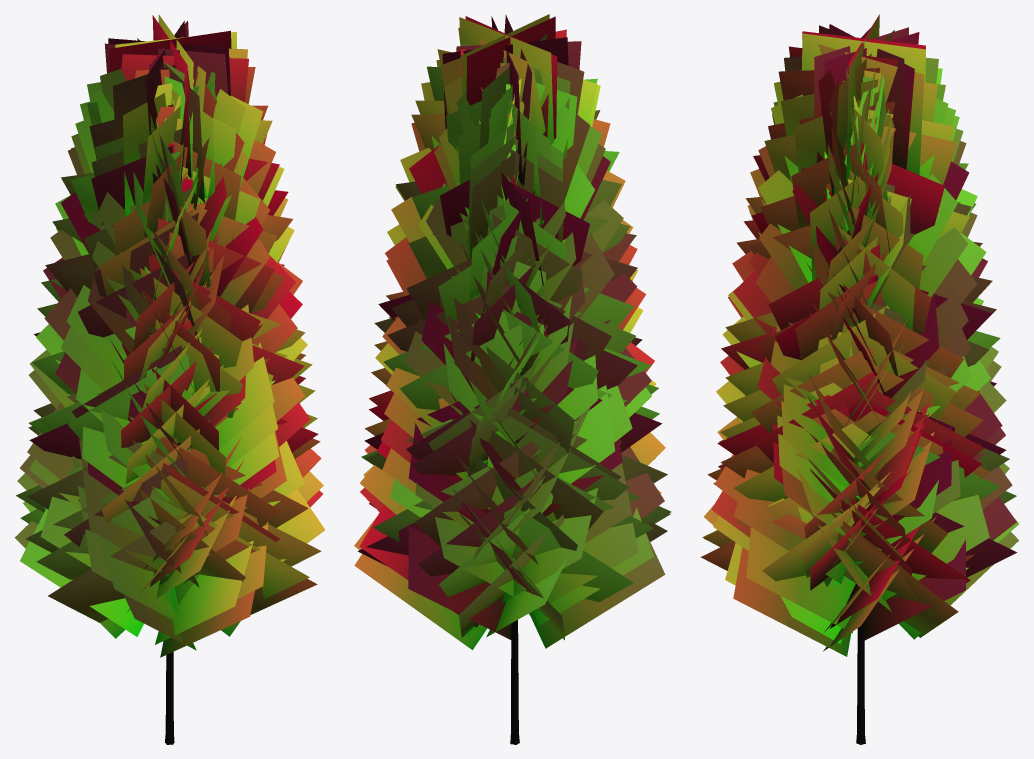
File: URP_P4_Tree_2_LOD_0.fbx
3 renders of one model, left to right at view 1: azimuth 30°, elevation 25°; view 2: azimuth 150°, elevation 25°; view 3: azimuth 270°, elevation 25°, orthographic.
Visible parts, largest first — view 1: Tree_2_LOD_0; view 2: Tree_2_LOD_0; view 3: Tree_2_LOD_0.
Boxes of the visible parts, left/top/right/bottom form: Tree_2_LOD_0: left=14, top=14, right=325, bottom=744; Tree_2_LOD_0: left=354, top=14, right=671, bottom=744; Tree_2_LOD_0: left=700, top=14, right=1018, bottom=744.
Bounding box in the file's own units: 214 × 522 × 214.
